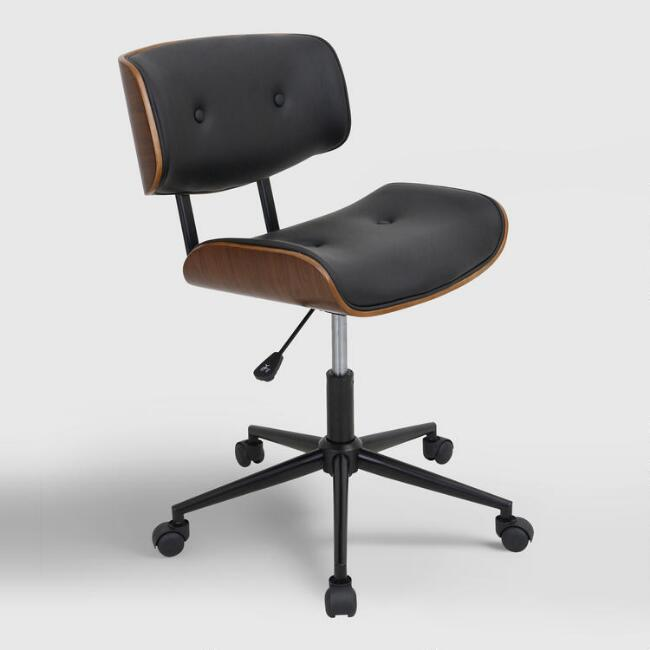chairs: (114, 31, 541, 620)
